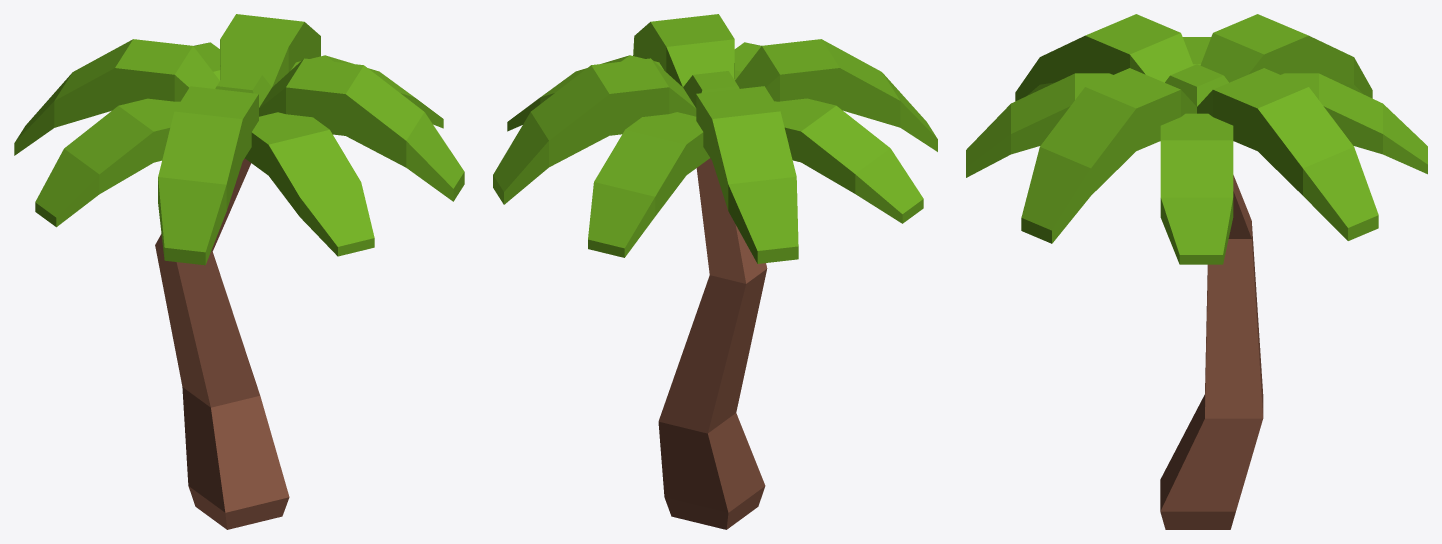
The model's file is tree_palmDetailedShort.glb.
3 views of the same model, side by side, from view 1: azimuth 30°, elevation 25°; view 2: azimuth 150°, elevation 25°; view 3: azimuth 270°, elevation 25° (orthographic). The views are drawn at different scales.
Parts seen in each view (by area): view 1: leafs (×2), tree_palmDetailedShort; view 2: leafs (×2), tree_palmDetailedShort; view 3: leafs (×2), tree_palmDetailedShort.
Boxes of the visible parts, x1,y1,x2,y2 form: leafs (×2): (14, 14, 464, 265); tree_palmDetailedShort: (155, 158, 289, 529); leafs (×2): (493, 14, 937, 263); tree_palmDetailedShort: (658, 158, 767, 529); leafs (×2): (966, 14, 1427, 264); tree_palmDetailedShort: (1160, 175, 1263, 529).
Size of the model in its own units: 1.03 by 1.12 by 1.03.
